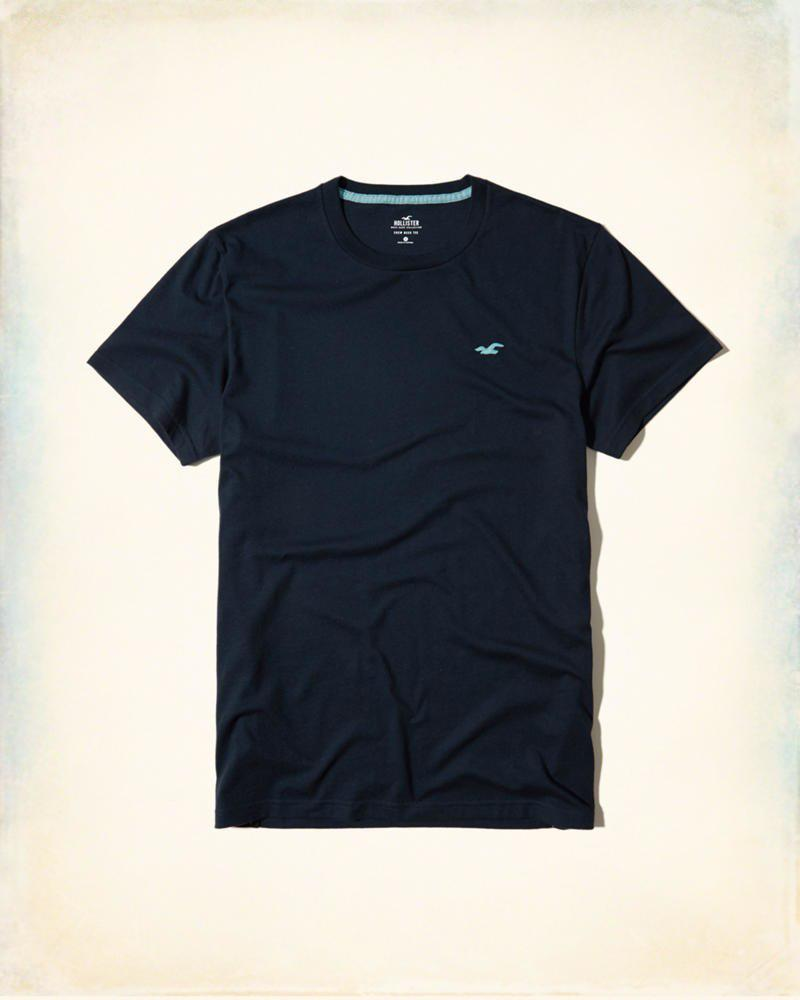teeshirt: (68, 163, 759, 865)
